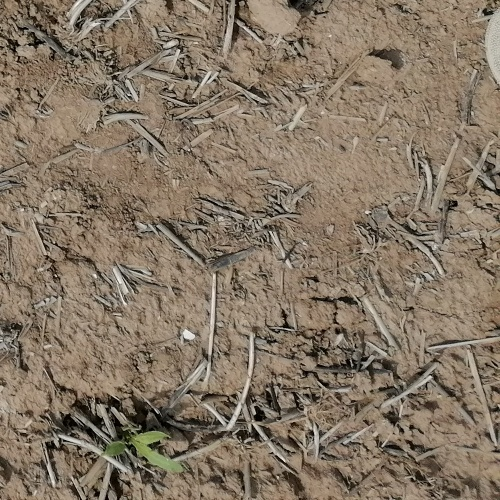beet: (101, 431, 184, 473)
